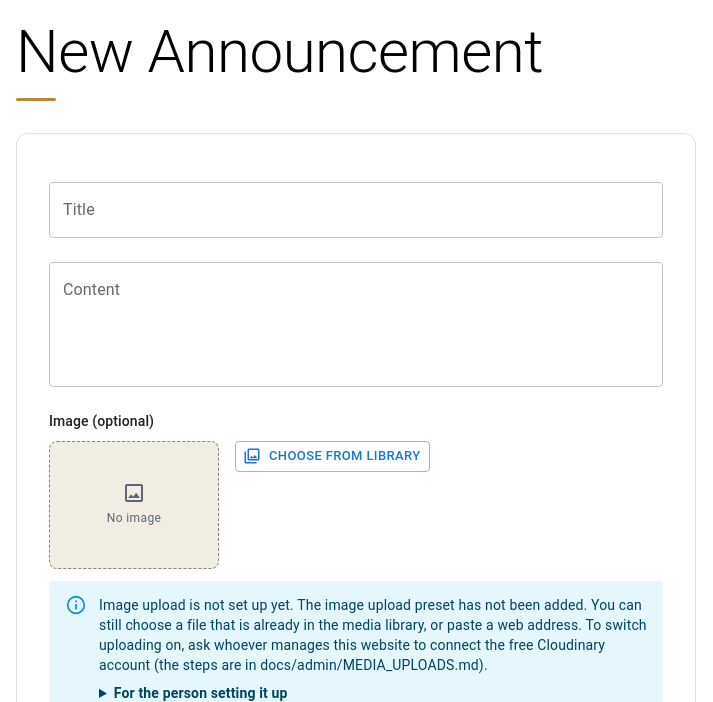
Test case: AnnouncementForm › shows a submit error and does not navigate away when the write fails
The image size is (713, 702).
Type "Title" into the field with test id "announcement-title-input" at (356, 210), box [49,182,663,238]
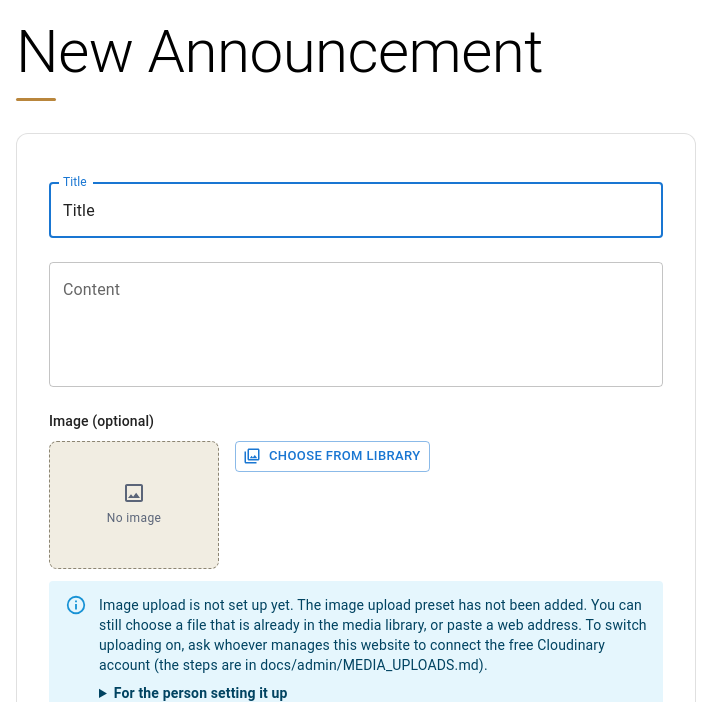
Type "Content" into the text box with test id "announcement-content-input" at (356, 324), box [63,278,649,370]
(page scrolled)
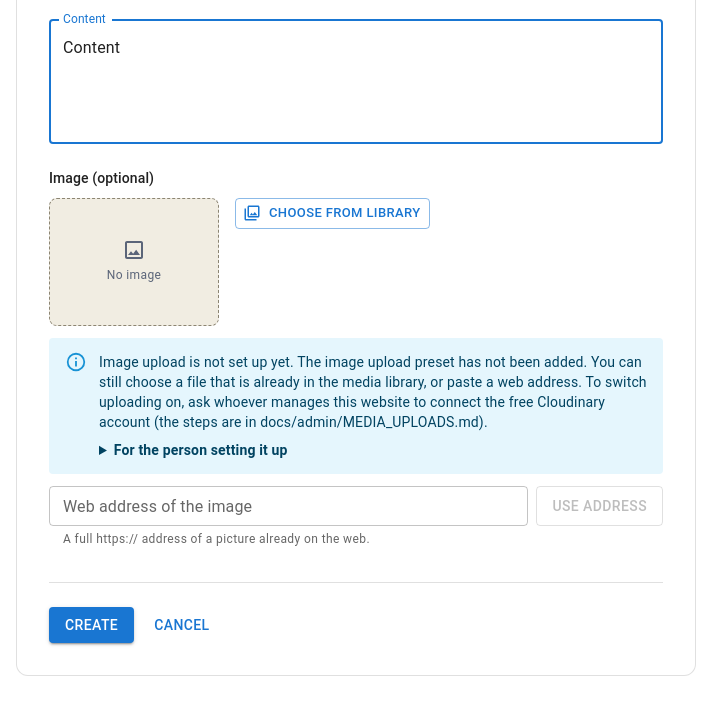
Click the button with test id "announcement-form-submit" at (92, 625), box [49,607,134,644]
(page scrolled)
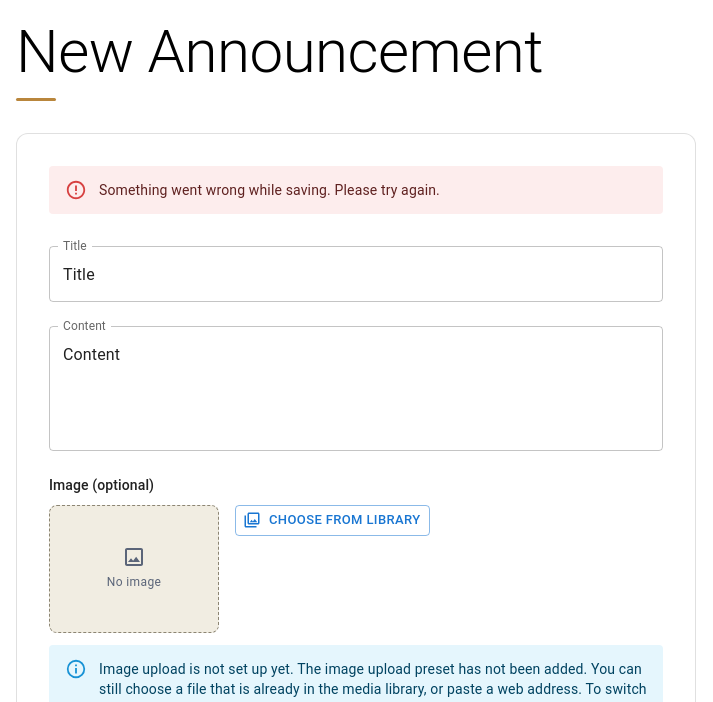
Check: the message with test id "announcement-form-error" reads "Something went wrong while saving. Please try again.", box [99,182,440,198]
